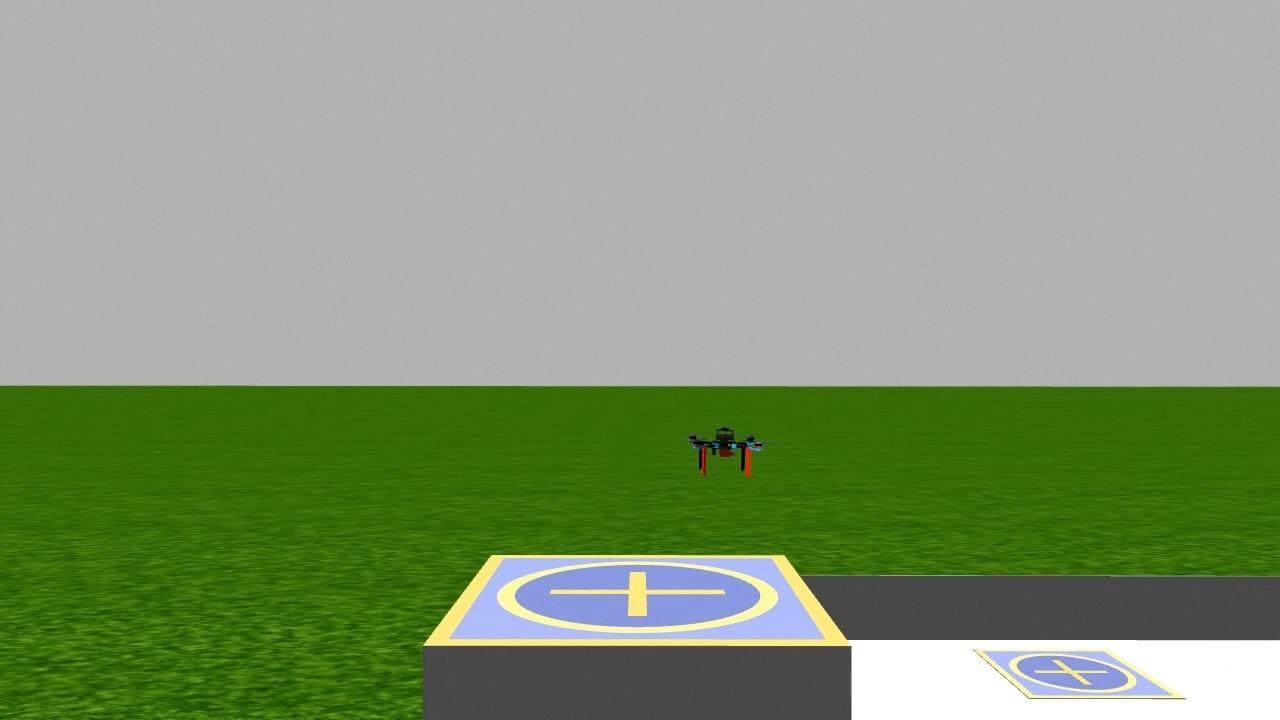UAV: (662, 412, 786, 484)
